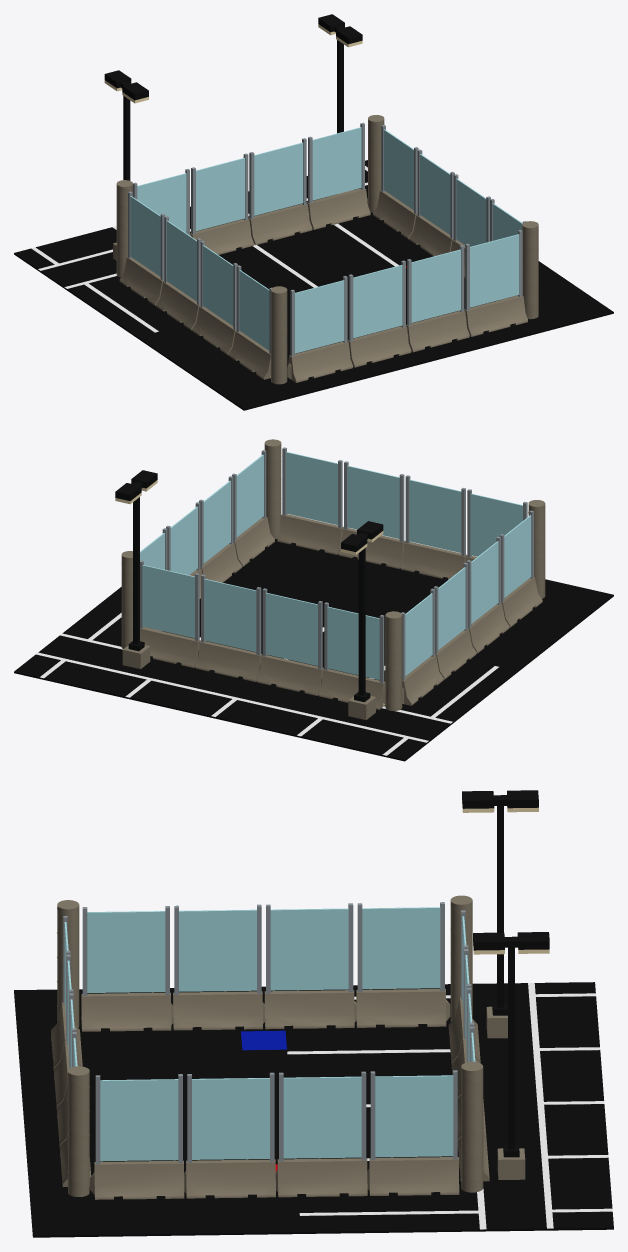
Rendered from Parking_Lot_Arena.fbx.
3 views of the same model, one above another, from view 1: azimuth 30°, elevation 25°; view 2: azimuth 150°, elevation 25°; view 3: azimuth 270°, elevation 25° (orthographic). The views are drawn at different scales.
Visible parts, largest first — view 1: tinker_obj_cleaner_materialmerger_gles; view 2: tinker_obj_cleaner_materialmerger_gles; view 3: tinker_obj_cleaner_materialmerger_gles.
Boxes of the visible parts, x1,y1,x2,y2 form: tinker_obj_cleaner_materialmerger_gles: [14, 14, 613, 410]; tinker_obj_cleaner_materialmerger_gles: [14, 439, 613, 761]; tinker_obj_cleaner_materialmerger_gles: [14, 790, 613, 1237].
Size of the model in its own units: 1170 by 514 by 1170.
